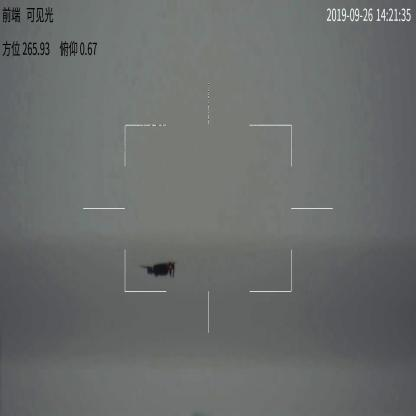uav: (140, 257, 182, 283)
